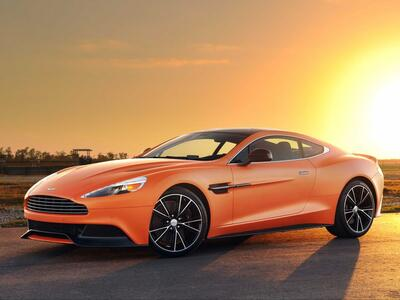car: (30, 125, 383, 239)
